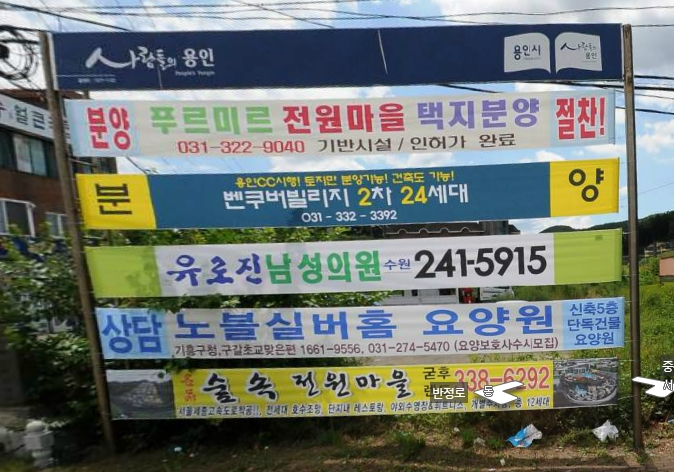banner: (56, 150, 651, 235), (62, 224, 638, 303), (83, 357, 649, 428), (48, 84, 640, 151), (76, 296, 642, 356)
